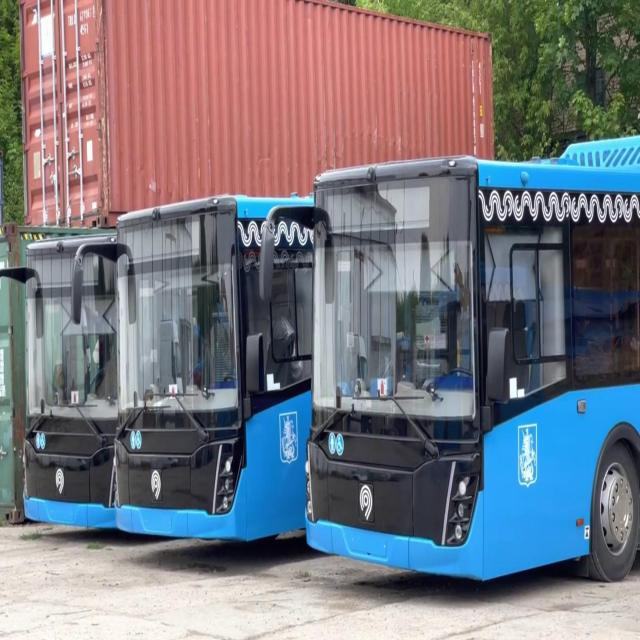bus: (300, 136, 640, 593), (103, 190, 301, 548), (18, 222, 121, 534)
